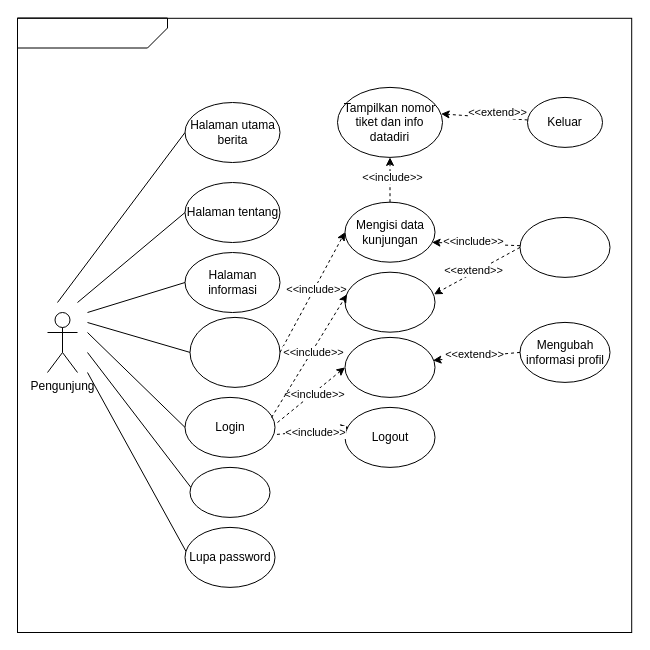
This 650x650 diagram has some shape labels left out. The centre of each missing label's shape, as x and y in pixels:
"Buat akun" belongs at pixel 229 491.
"kunjungan tanpa login" belongs at pixel 234 351.
"Melihat profil" belongs at pixel 389 366.
"Melihat riwayat kunjungan" belongs at pixel 389 301.
"Mendaftar berkunjung" belongs at pixel 564 246.
"uc Use Case Pengunjung" belongs at pixel 92 32.
